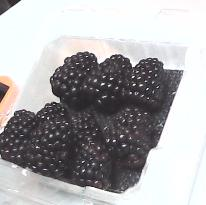berry: (107, 107, 157, 165), (26, 115, 71, 177), (49, 51, 97, 109), (82, 53, 130, 111), (120, 57, 168, 108), (0, 109, 37, 166), (72, 140, 110, 188), (70, 110, 107, 154), (36, 102, 67, 120)
